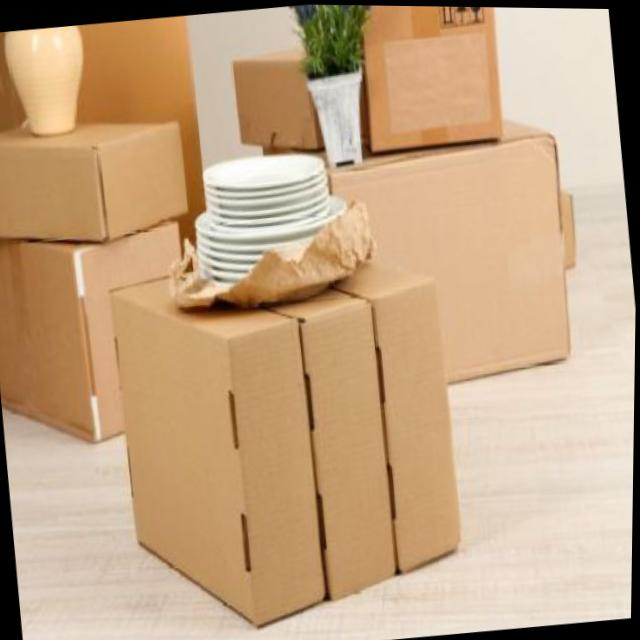box: (100, 242, 494, 640), (311, 112, 598, 425), (0, 204, 217, 502), (0, 85, 200, 273), (350, 4, 538, 171)
